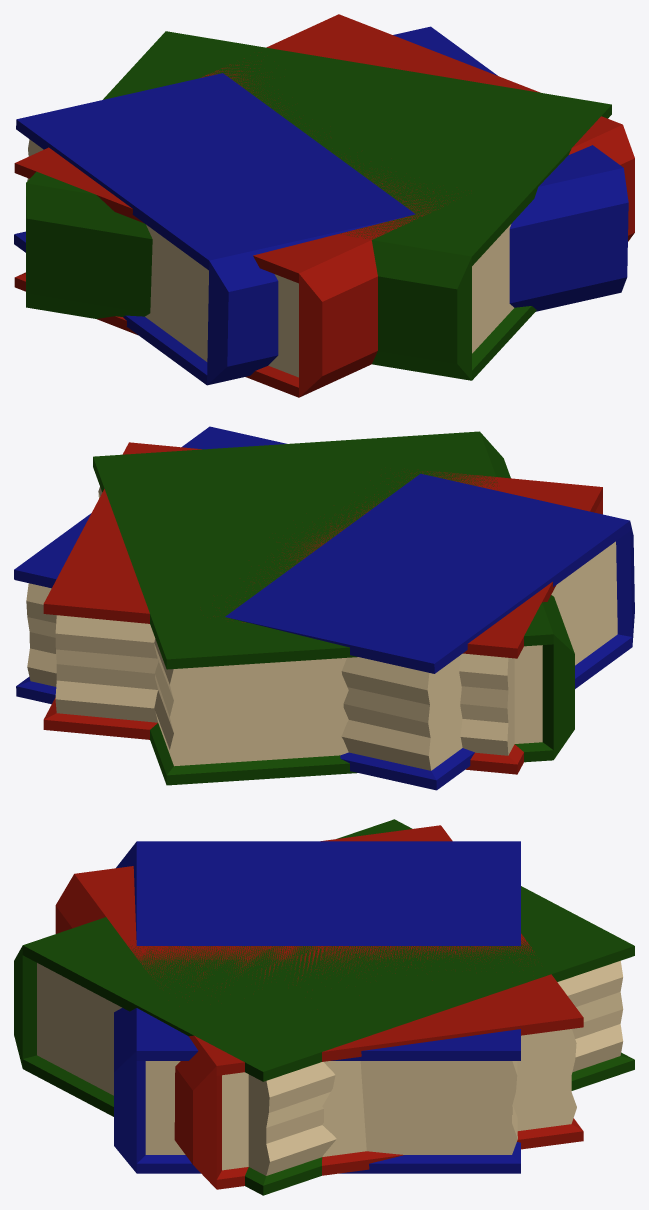
Rendered from pile_of_book.fbx.
3 views of the same model, one above another, from view 1: azimuth 30°, elevation 25°; view 2: azimuth 150°, elevation 25°; view 3: azimuth 270°, elevation 25° (orthographic).
Parts seen in each view (by area): view 1: Book.005, Book.007, Book.006; view 2: Book.005, Book.007, Book.006; view 3: Book.005, Book.007, Book.006.
Part boxes in pixels (x1=…): Book.005: x1=26, y1=31, x2=611, y2=380; Book.007: x1=14, y1=26, x2=628, y2=385; Book.006: x1=14, y1=14, x2=634, y2=397; Book.005: x1=93, y1=431, x2=574, y2=785; Book.007: x1=14, y1=426, x2=634, y2=790; Book.006: x1=43, y1=442, x2=602, y2=774; Book.005: x1=14, y1=819, x2=634, y2=1195; Book.007: x1=114, y1=841, x2=520, y2=1173; Book.006: x1=55, y1=825, x2=583, y2=1189.
Size of the model in its own units: 107 by 25.55 by 109.
